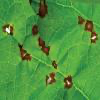grape leaf black rot: (0, 0, 99, 97)
